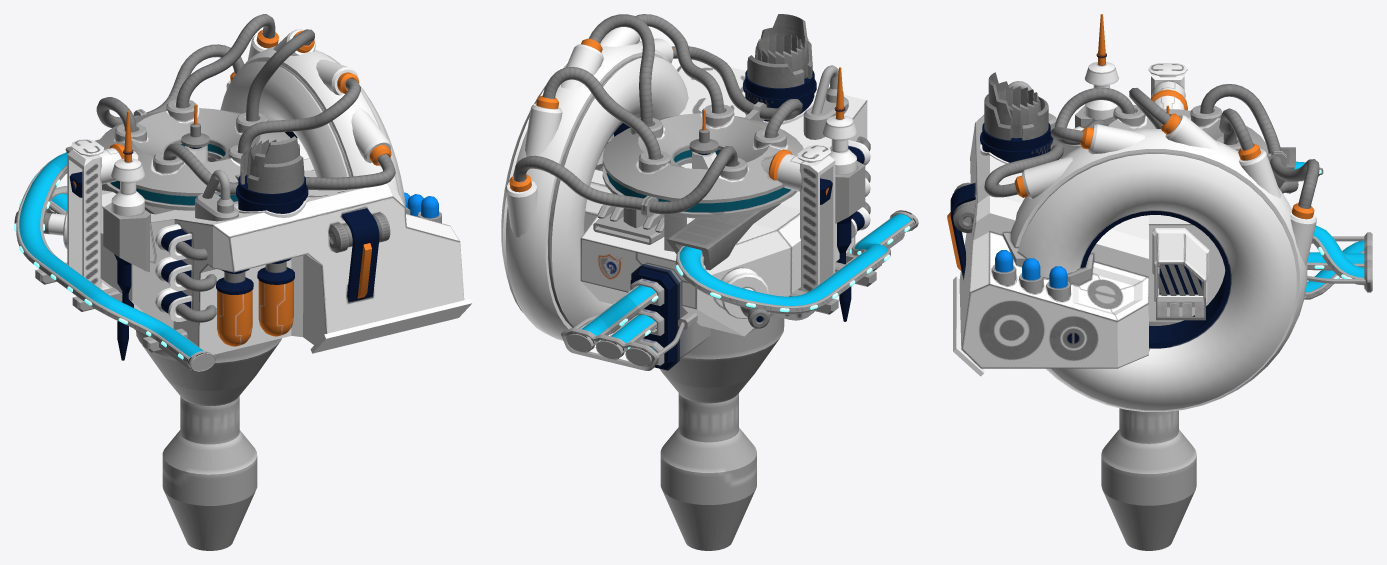
Rendered from Constuctor_Unity.fbx.
3 views of the same model, side by side, from view 1: azimuth 30°, elevation 25°; view 2: azimuth 150°, elevation 25°; view 3: azimuth 270°, elevation 25° (orthographic).
Parts seen in each view (by area): view 1: Cube.429; view 2: Cube.429; view 3: Cube.429.
Part boxes in pixels (box(x1,y1,x2,y2)): Cube.429: box(14, 14, 472, 550); Cube.429: box(501, 14, 918, 550); Cube.429: box(947, 14, 1372, 550).
Bounding box in the file's own units: 2171 × 3231 × 2525.
